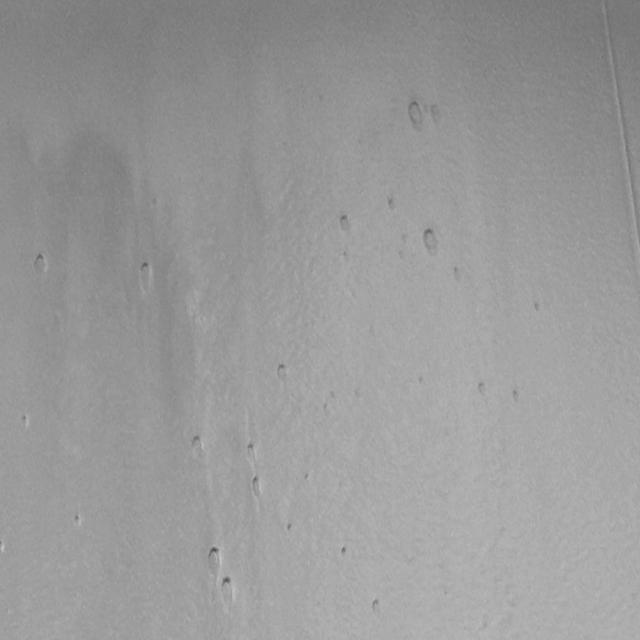pin holes: (403, 99, 429, 135), (136, 258, 158, 294), (420, 227, 444, 257), (216, 576, 236, 608), (31, 250, 52, 280), (204, 546, 224, 576), (186, 432, 207, 460), (473, 378, 493, 406), (336, 212, 356, 238), (247, 474, 265, 500), (368, 598, 386, 620), (274, 362, 291, 383), (509, 388, 526, 408), (384, 193, 400, 214), (245, 440, 259, 464), (430, 98, 442, 126), (451, 265, 466, 285), (18, 413, 32, 432), (71, 511, 83, 529), (339, 545, 352, 560), (286, 520, 297, 536), (0, 539, 8, 557), (417, 373, 425, 389), (304, 472, 312, 486), (323, 401, 330, 414), (534, 300, 541, 313)
